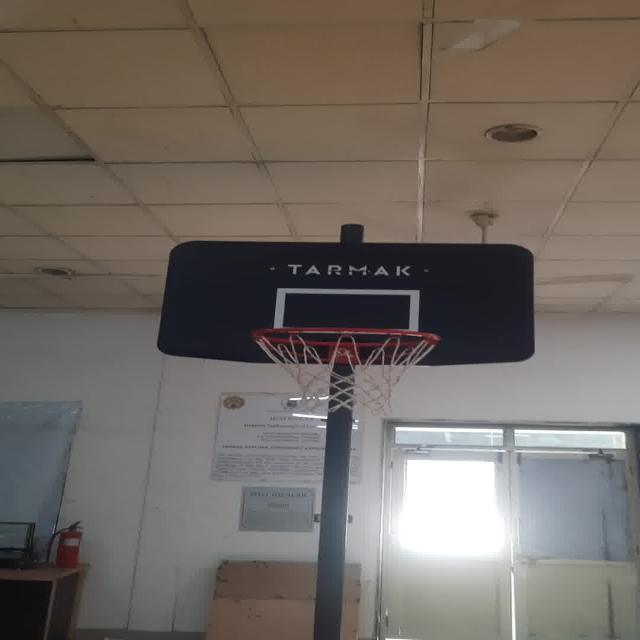objects: (235, 320, 460, 418), (277, 287, 419, 333)
